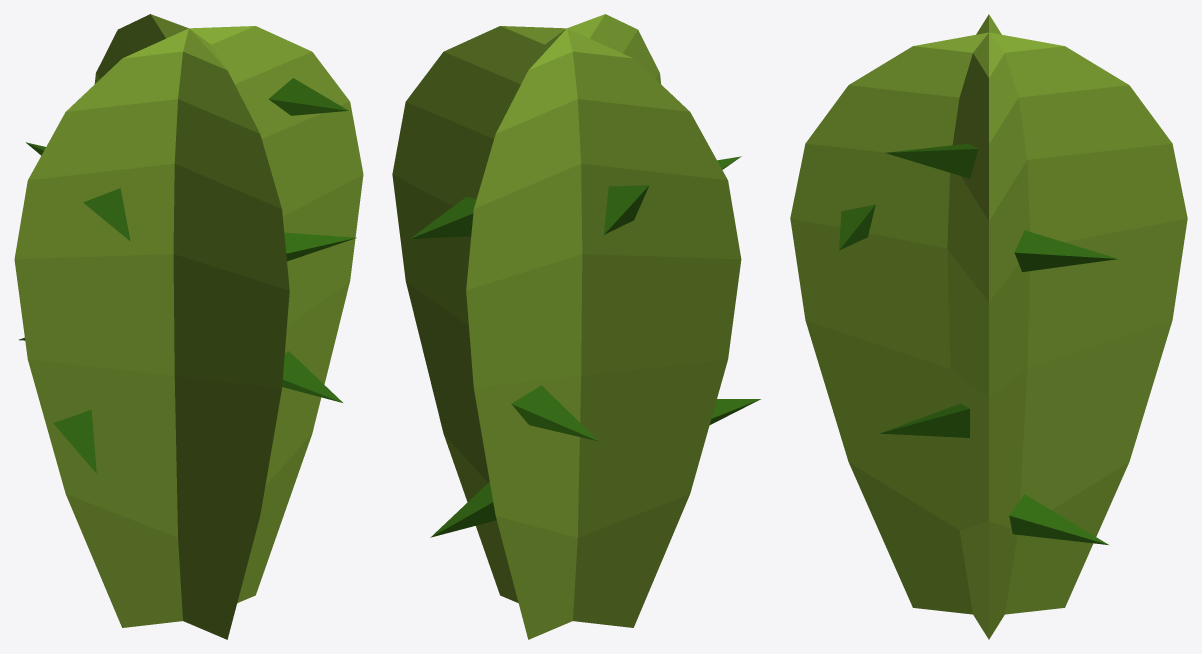
Rendered from Cactus_31_B.fbx.
3 renders of one model, left to right at view 1: azimuth 30°, elevation 25°; view 2: azimuth 150°, elevation 25°; view 3: azimuth 270°, elevation 25°, orthographic.
Parts seen in each view (by area): view 1: Cactus_31_B; view 2: Cactus_31_B; view 3: Cactus_31_B.
Part boxes in pixels (bbox=[...]): Cactus_31_B: bbox=[14, 14, 363, 639]; Cactus_31_B: bbox=[392, 14, 760, 639]; Cactus_31_B: bbox=[790, 14, 1187, 639].
Bounding box in the file's own units: 57.31 × 91.56 × 57.31.
